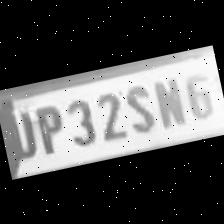2: (88, 87, 128, 143)
3: (58, 92, 97, 150)
6: (177, 66, 217, 122)
N: (148, 72, 188, 130)
P: (28, 99, 70, 156)
S: (118, 78, 158, 136)
U: (0, 104, 40, 163)
